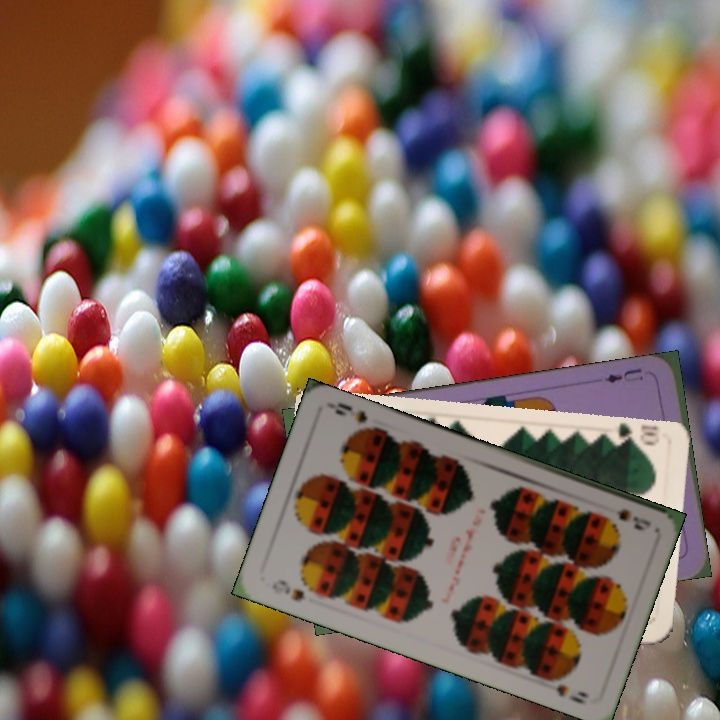EU: (601, 364, 645, 386)
G10: (606, 422, 662, 451)
S9: (611, 505, 654, 534), (267, 575, 308, 604)
